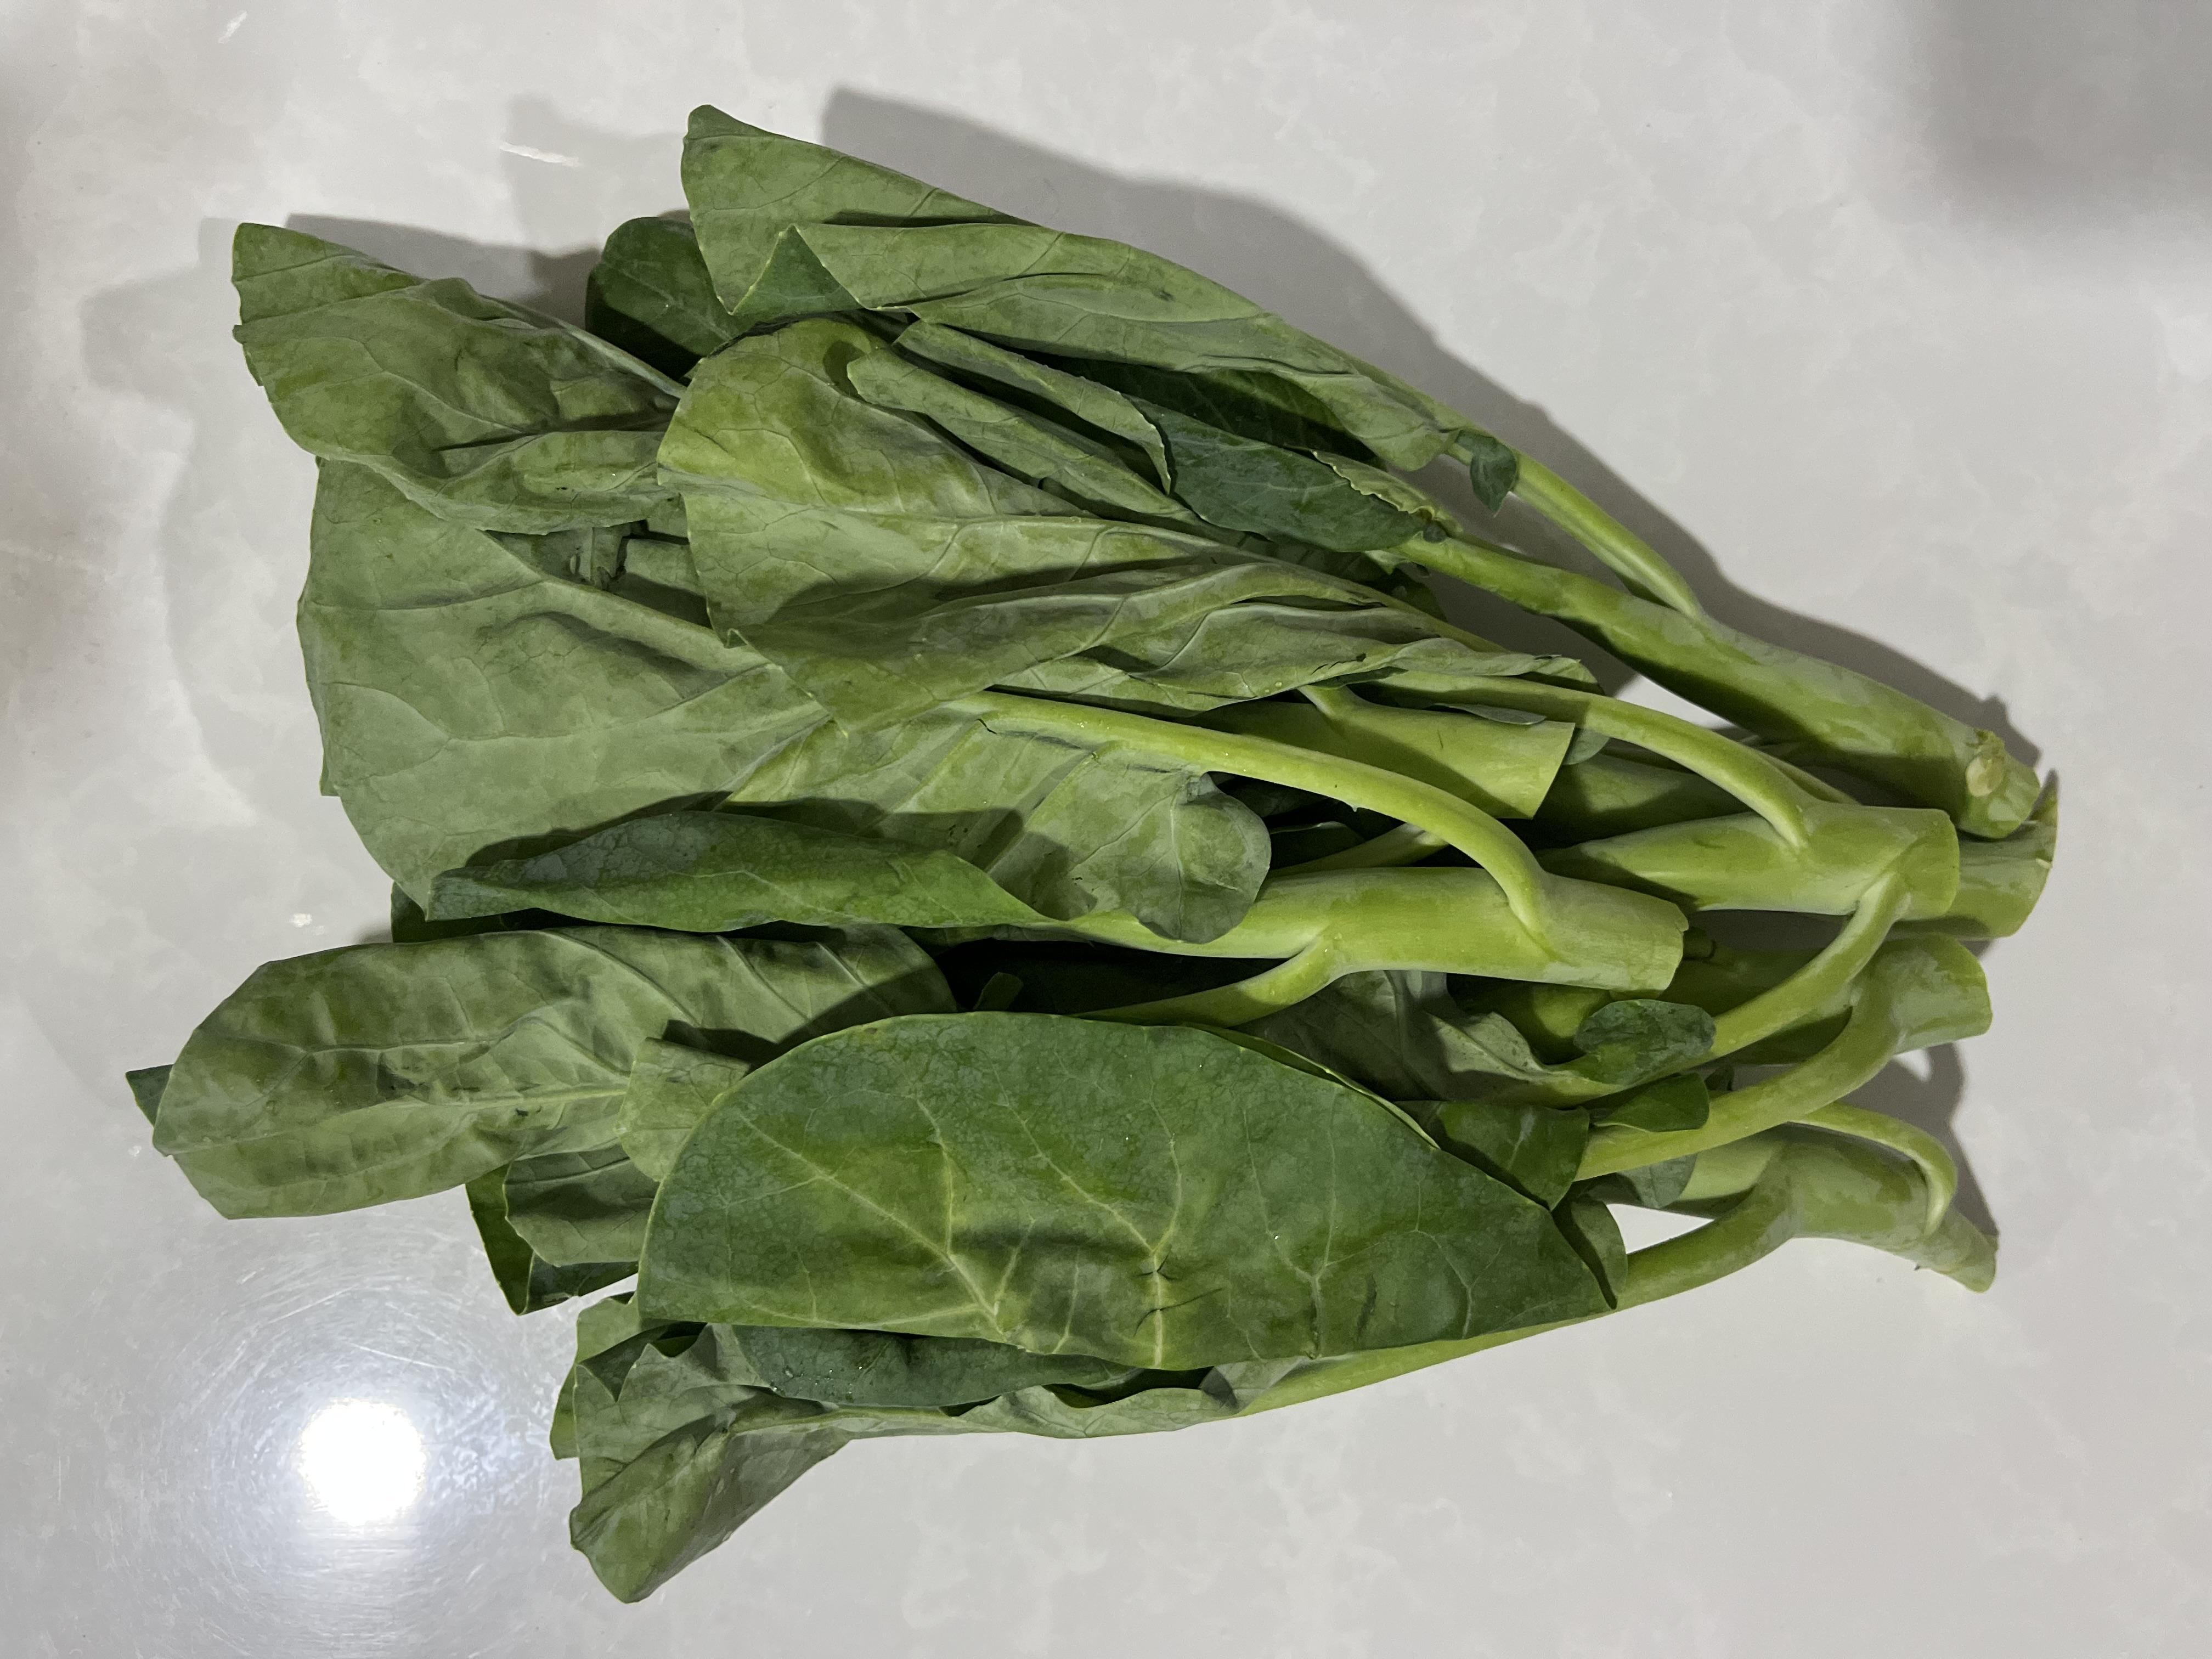Healthy-Pechay: (132, 82, 1937, 1591)
